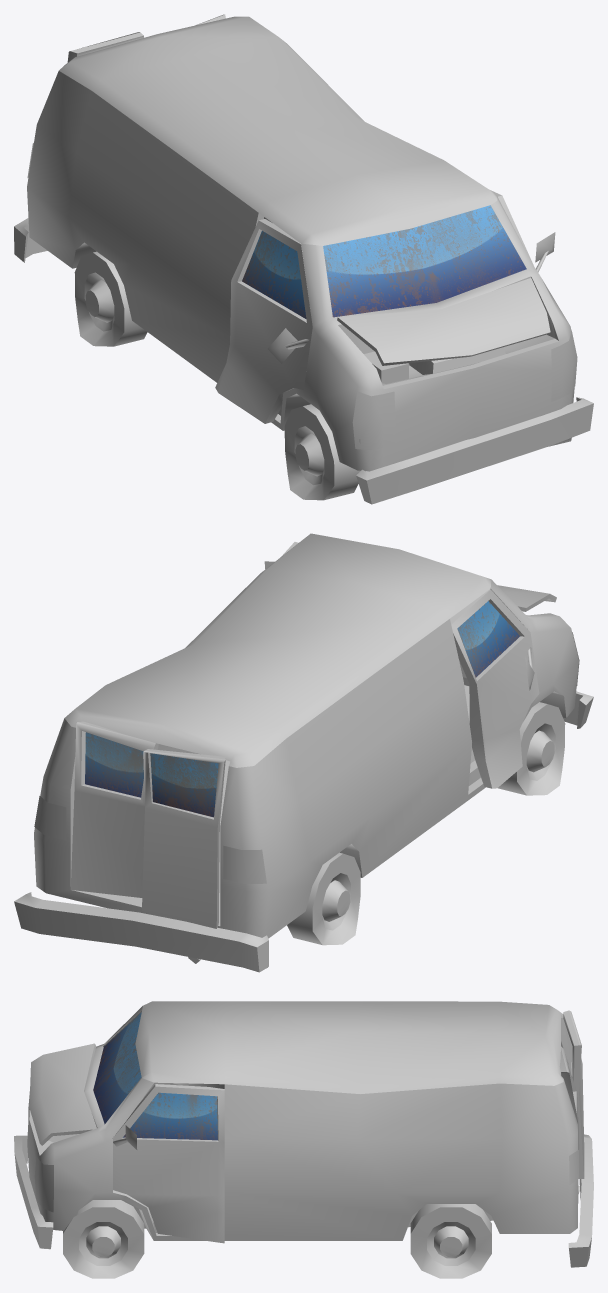
The model's file is Veh_Van_B.FBX.
The picture shows the model from 3 angles, top to bottom: view 1: azimuth 30°, elevation 25°; view 2: azimuth 150°, elevation 25°; view 3: azimuth 270°, elevation 25°; orthographic projection. The views are drawn at different scales.
Visible parts, largest first — view 1: Veh_Van_B, roof, windshield, door_frontR, hood, wheel_frontR, wheel_backR, glass_door_frontR, light_frontR, light_frontL, door_frontL; view 2: Veh_Van_B, roof, door_rearR, door_rearL, door_frontR, wheel_backR, wheel_frontR, glass_door_rearR, glass_door_rearL, glass_door_frontR, light_rearR, light_rearL (+1 smaller); view 3: Veh_Van_B, roof, door_frontL, wheel_backL, wheel_frontL, hood, glass_door_frontL, windshield, door_rearR, light_frontL, door_rearL.
Part boxes in pixels (box(x1,y1,x2,y2)): Veh_Van_B: box(14, 71, 593, 504); roof: box(59, 16, 497, 245); windshield: box(323, 205, 526, 317); door_frontR: box(215, 219, 312, 423); hood: box(337, 278, 550, 365); wheel_frontR: box(284, 404, 360, 500); wheel_backR: box(74, 251, 147, 346); glass_door_frontR: box(242, 231, 306, 318); light_frontR: box(352, 391, 395, 449); light_frontL: box(551, 330, 577, 401); door_frontL: box(490, 190, 555, 272); Veh_Van_B: box(14, 579, 593, 972); roof: box(64, 533, 491, 767); door_rearR: box(142, 749, 225, 928); door_rearL: box(70, 721, 158, 897); door_frontR: box(450, 589, 539, 788); wheel_backR: box(287, 852, 360, 945); wheel_frontR: box(498, 702, 565, 795); glass_door_rearR: box(150, 753, 218, 817); glass_door_rearL: box(85, 732, 143, 797); glass_door_frontR: box(457, 601, 520, 677); light_rearR: box(223, 845, 266, 883); light_rearL: box(34, 796, 66, 840); Veh_Van_B: box(14, 1006, 593, 1267); roof: box(135, 1001, 563, 1093); door_frontL: box(112, 1084, 224, 1243); wheel_backL: box(410, 1204, 491, 1278); wheel_frontL: box(63, 1200, 144, 1278); hood: box(29, 1043, 96, 1145); glass_door_frontL: box(123, 1092, 217, 1140); windshield: box(93, 1012, 141, 1124); door_rearR: box(563, 1010, 584, 1178); light_frontL: box(34, 1156, 53, 1212); door_rearL: box(559, 1046, 578, 1203).
Size of the model in its own units: 240 by 187 by 508.
